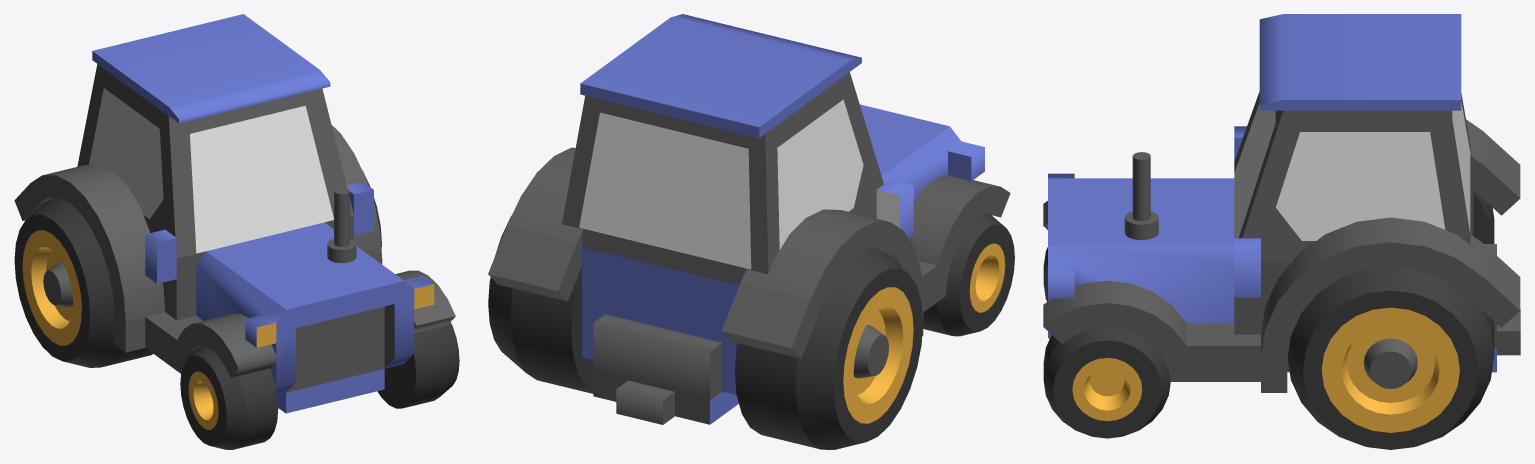
File: tractor.obj
The picture shows the model from 3 angles, left to right: view 1: azimuth 30°, elevation 25°; view 2: azimuth 150°, elevation 25°; view 3: azimuth 270°, elevation 25°; orthographic projection. The views are drawn at different scales.
Visible parts, largest first — view 1: body, skirts, wheel_backRight, wheel_frontRight, wheel_frontLeft; view 2: body, skirts, wheel_backRight, wheel_backLeft, wheel_frontRight; view 3: body, skirts, wheel_backLeft, wheel_frontLeft, wheel_backRight.
Part boxes in pixels (x1=…): body: x1=77, y1=14, x2=434, y2=413; skirts: x1=14, y1=125, x2=455, y2=377; wheel_backRight: x1=14, y1=197, x2=153, y2=367; wheel_frontRight: x1=180, y1=346, x2=278, y2=449; wheel_frontLeft: x1=377, y1=322, x2=459, y2=408; body: x1=562, y1=14, x2=984, y2=424; skirts: x1=488, y1=147, x2=1010, y2=358; wheel_backRight: x1=735, y1=248, x2=922, y2=449; wheel_backLeft: x1=488, y1=215, x2=593, y2=393; wheel_frontRight: x1=923, y1=213, x2=1014, y2=336; body: x1=1048, y1=14, x2=1520, y2=372; skirts: x1=1043, y1=119, x2=1520, y2=392; wheel_backLeft: x1=1287, y1=266, x2=1494, y2=449; wheel_frontLeft: x1=1043, y1=327, x2=1170, y2=438; wheel_backRight: x1=1473, y1=190, x2=1494, y2=243.
Size of the model in its own units: 1.66 by 1.51 by 2.02.
